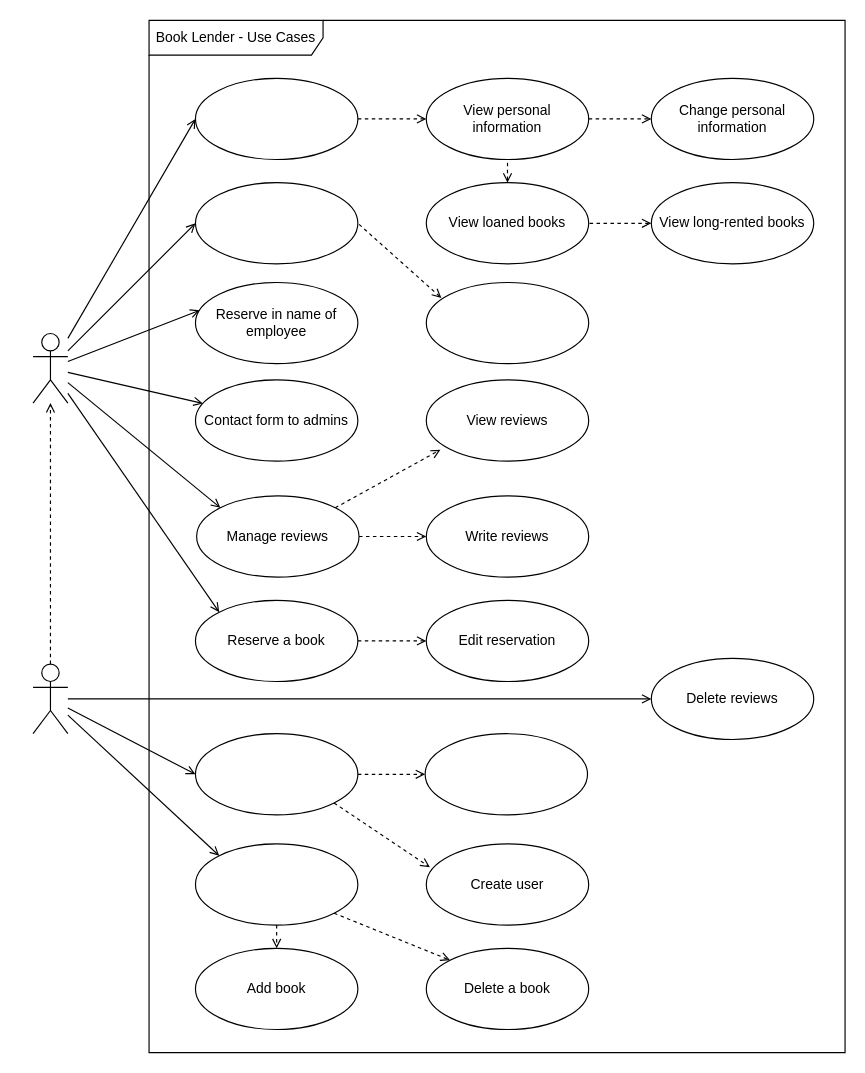
Image size: 865x1073. Some labels were removed from this diagram. The box of each missing label's shape, as (x1, y1, x2, y2) in pixels:
Admin: (32, 663, 68, 734)
Employee: (32, 332, 68, 403)
Manage account: (194, 77, 358, 160)
Manage accounts: (194, 733, 358, 815)
Manage books: (194, 843, 358, 925)
Remove admin role: (424, 733, 588, 815)
View all books: (194, 182, 358, 264)
View book details: (425, 281, 589, 364)
